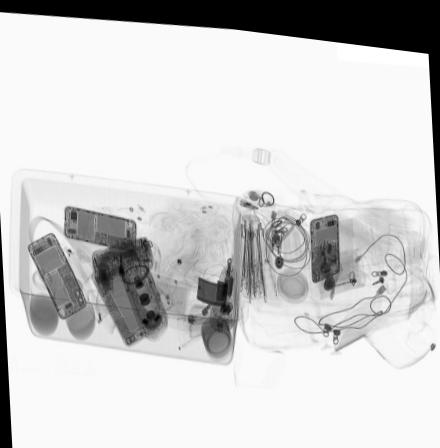Lighter: (184, 302, 228, 320)
